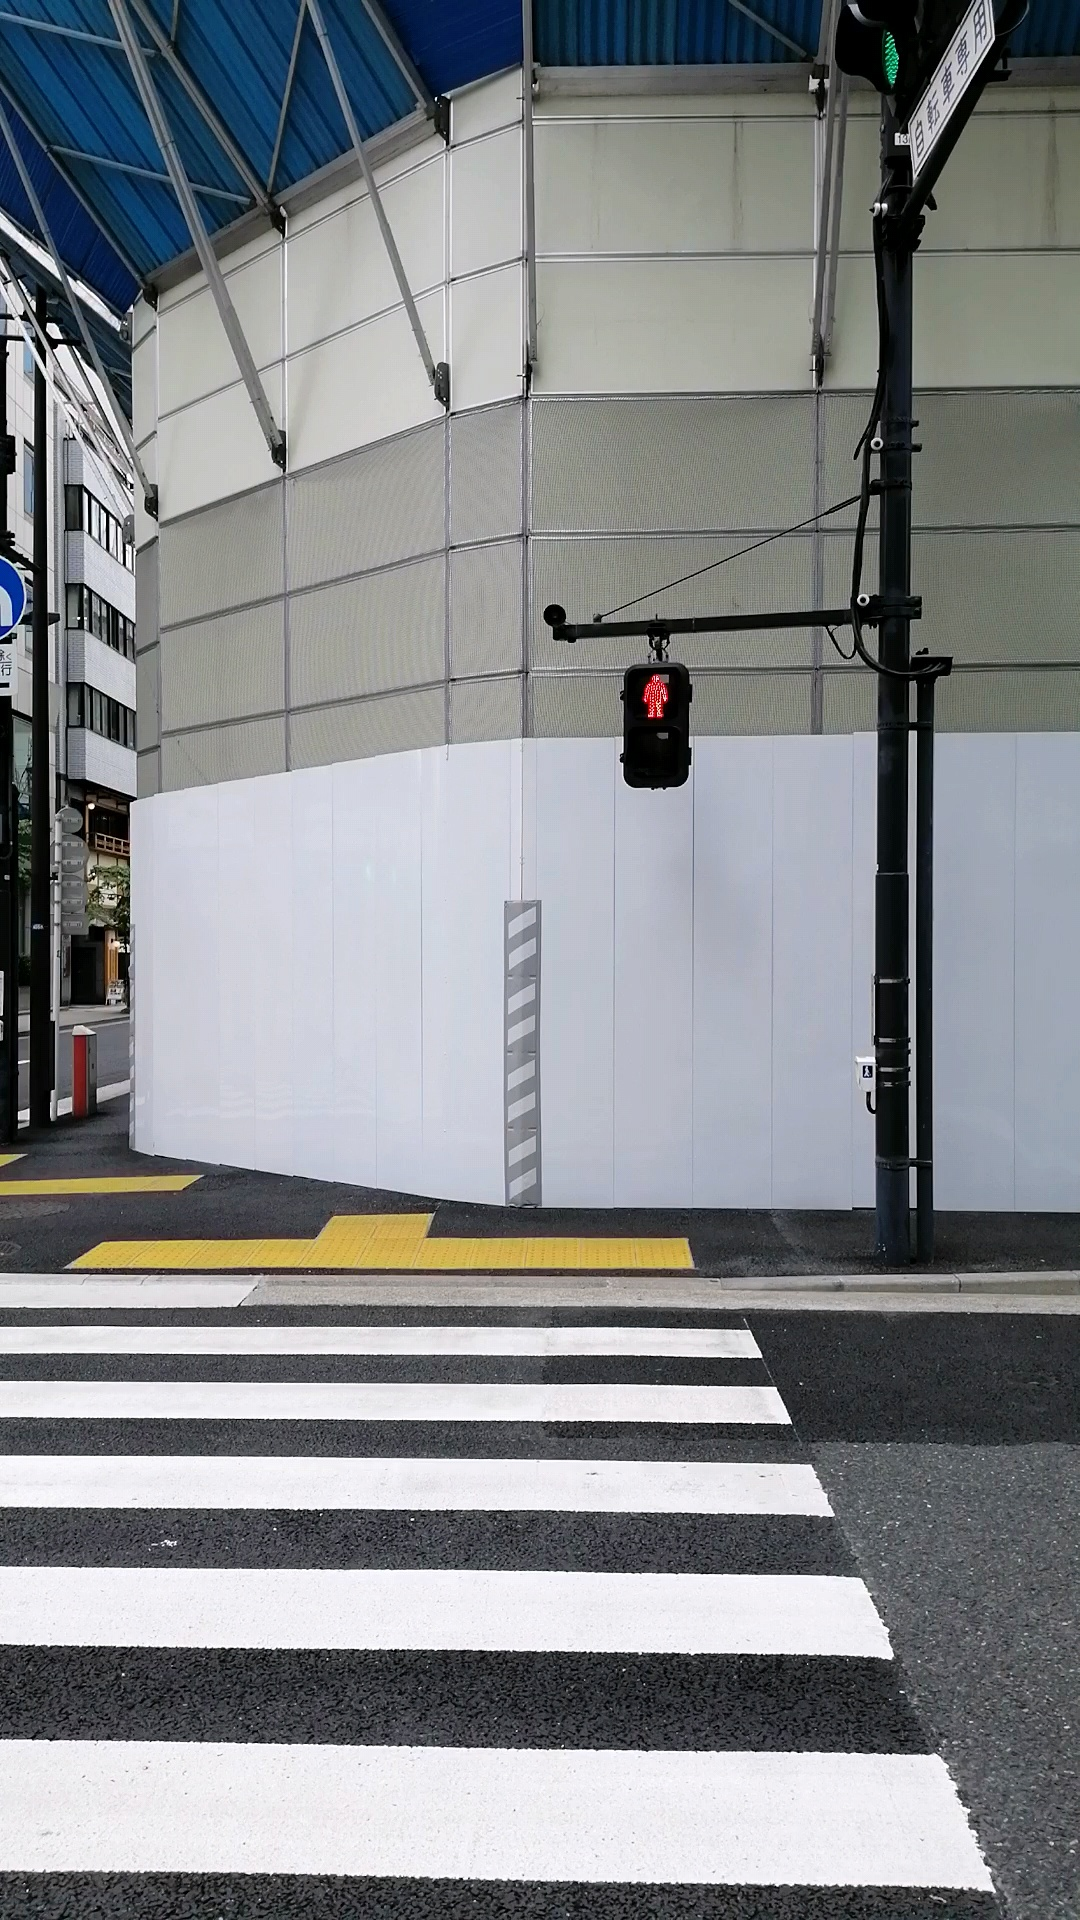red: (620, 661, 694, 795)
